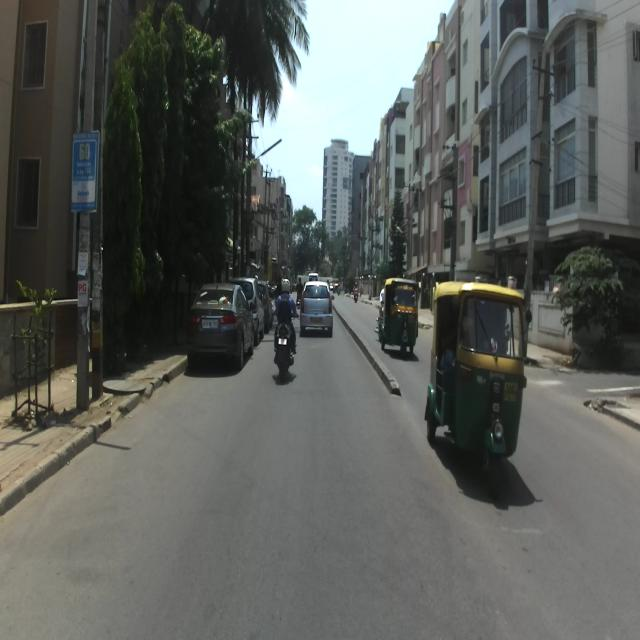auto ahead at: (430, 277, 526, 484)
car ahead at: (188, 279, 254, 377), (300, 281, 338, 338)
electric pole ahead at: (67, 1, 109, 420)
motorcycle ahead at: (270, 315, 302, 393)
